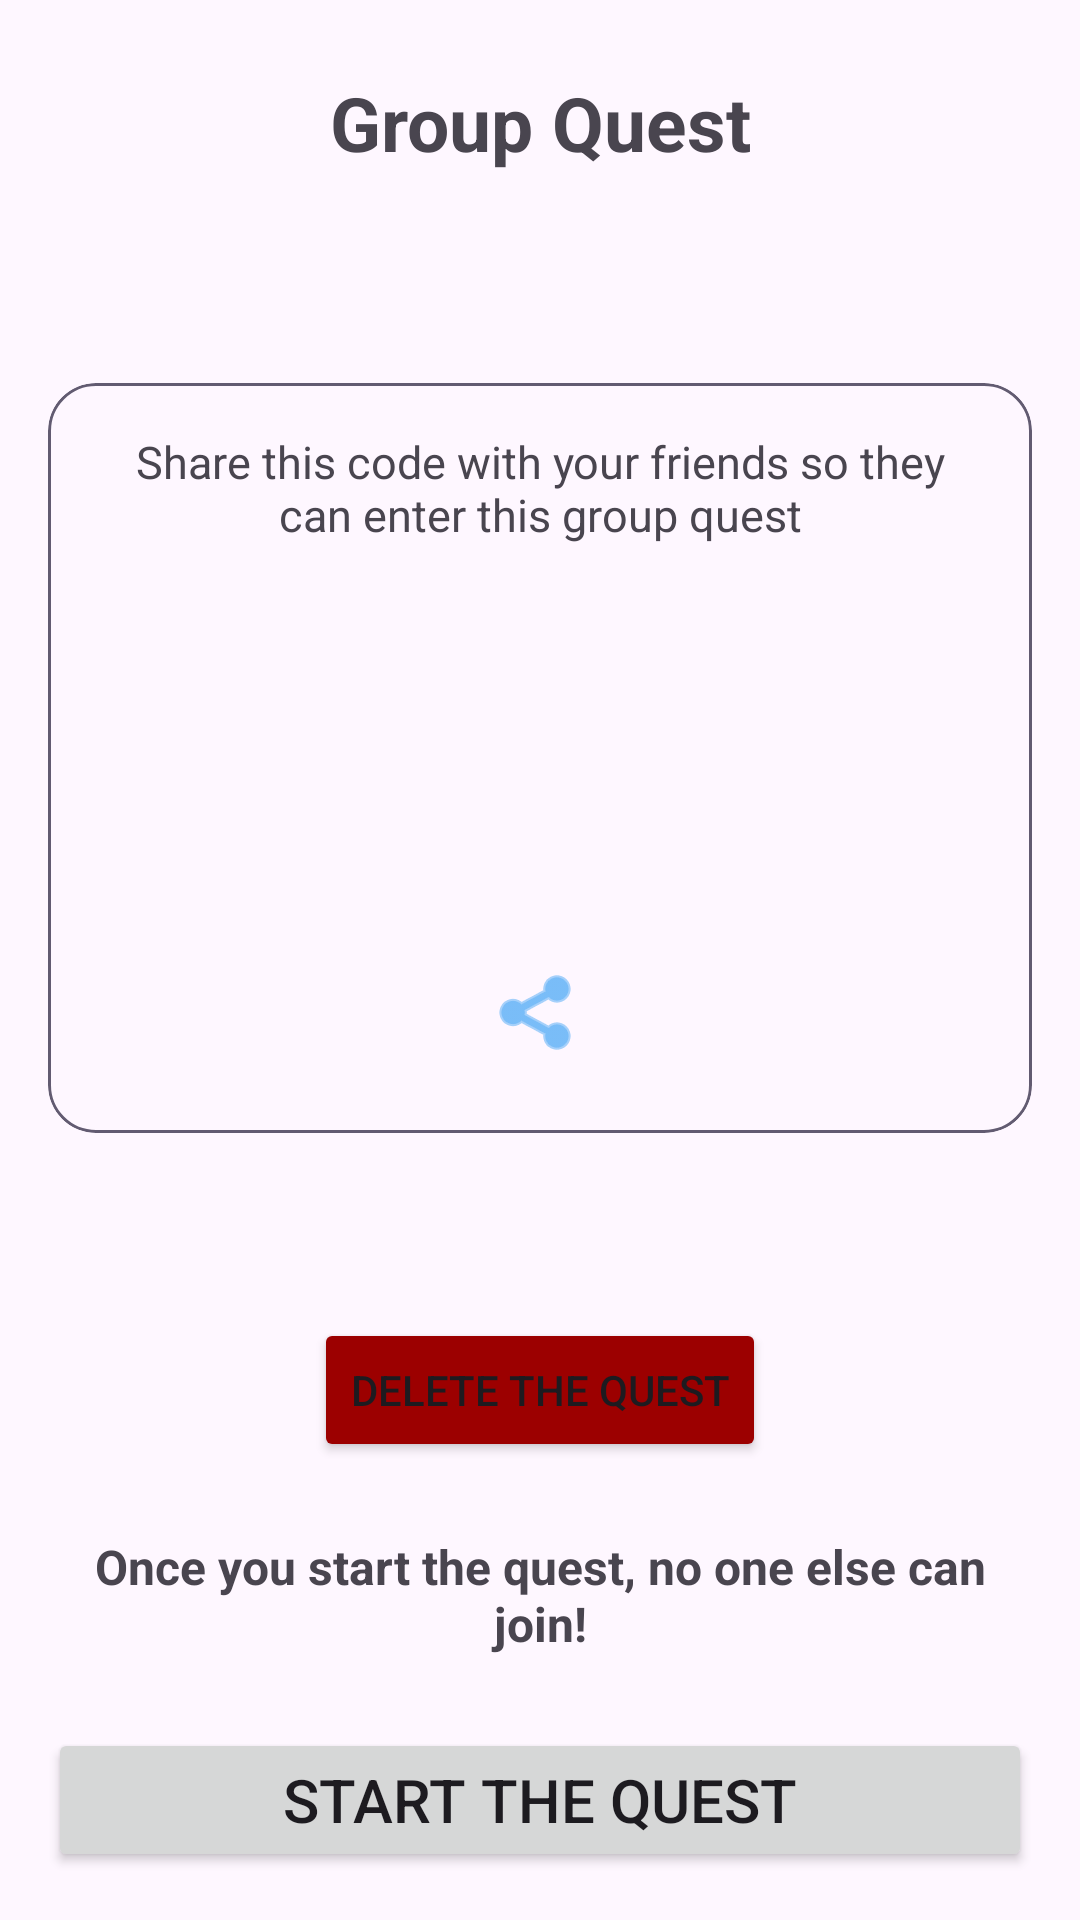

Icons on this 1080*1920 Android screen, each with the point to tap as (x,y):
share: (535,1012)
